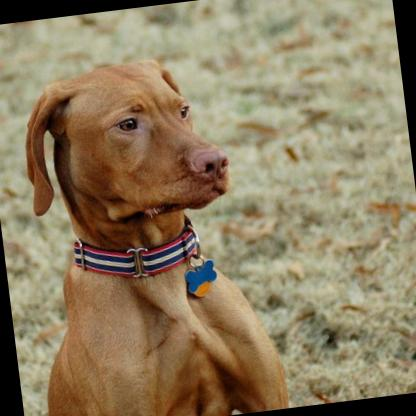vizsla: (0, 40, 289, 416)
